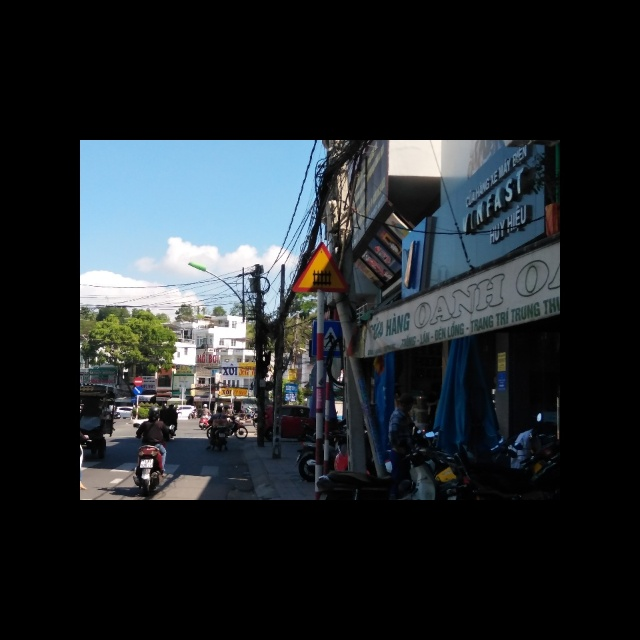Giao nhau với đường sắt có rào chắn: (291, 243, 353, 295)
